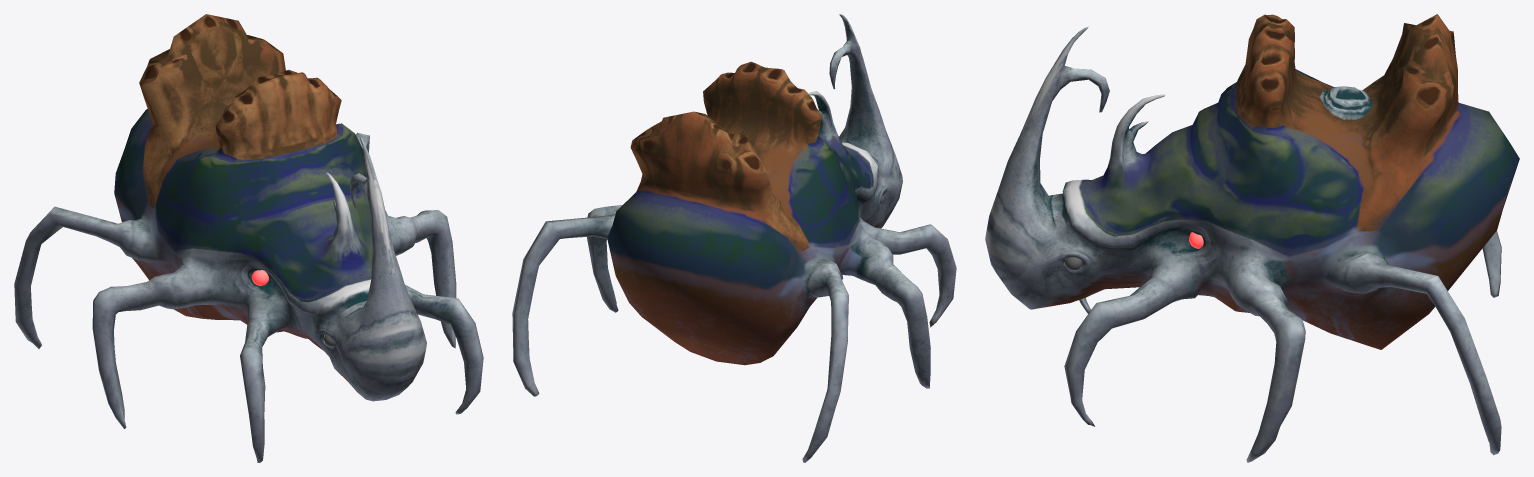
File: creature.glb
3 views of the same model, side by side, from view 1: azimuth 30°, elevation 25°; view 2: azimuth 150°, elevation 25°; view 3: azimuth 270°, elevation 25° (orthographic). The views are drawn at different scales.
Visible parts, largest first — view 1: creature_low_creature-retopo-UV-lowpoly; view 2: creature_low_creature-retopo-UV-lowpoly; view 3: creature_low_creature-retopo-UV-lowpoly.
Part boxes in pixels (bbox=[...]): creature_low_creature-retopo-UV-lowpoly: bbox=[14, 14, 483, 462]; creature_low_creature-retopo-UV-lowpoly: bbox=[512, 14, 956, 462]; creature_low_creature-retopo-UV-lowpoly: bbox=[985, 14, 1519, 462].
Bounding box in the file's own units: 3.88 × 3.29 × 4.41.
Materials: 3 (1 with a texture image).
